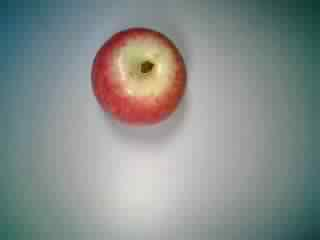apple: (84, 23, 188, 127)
